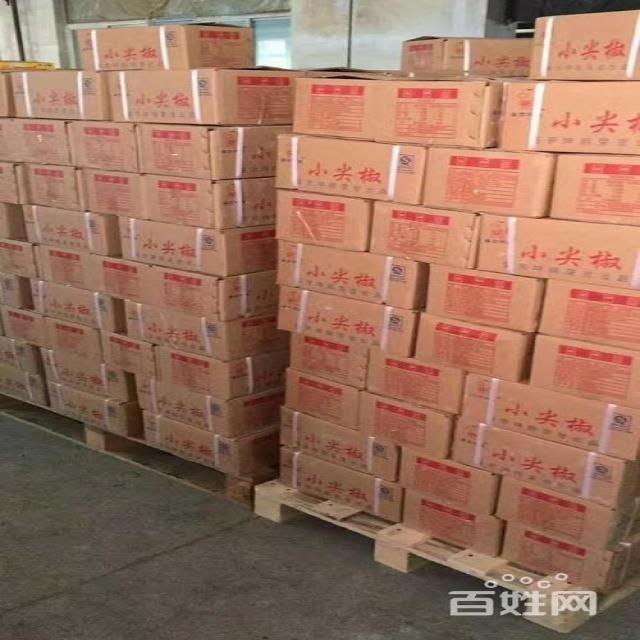box: (451, 415, 639, 510), (458, 371, 640, 461), (475, 213, 640, 292), (91, 253, 280, 320), (106, 66, 307, 126), (275, 132, 428, 206), (493, 475, 639, 551), (276, 283, 419, 358), (276, 240, 429, 310), (122, 299, 289, 362), (498, 81, 640, 155), (500, 521, 639, 593), (421, 145, 556, 218), (133, 374, 283, 439), (375, 75, 504, 150), (280, 445, 403, 523), (140, 410, 282, 477), (118, 217, 276, 277), (136, 122, 293, 181), (280, 406, 398, 484), (527, 332, 640, 410), (413, 312, 536, 383), (77, 22, 256, 70), (425, 263, 547, 333), (366, 199, 479, 270), (529, 10, 640, 81), (141, 173, 276, 230), (154, 344, 291, 400), (399, 488, 506, 559), (536, 279, 640, 351), (292, 75, 402, 142), (397, 445, 499, 517), (357, 389, 457, 459), (549, 153, 640, 227), (365, 349, 465, 415), (274, 189, 371, 253), (44, 379, 142, 437), (401, 36, 534, 78), (38, 346, 137, 401), (10, 68, 110, 120), (22, 204, 122, 256), (29, 278, 125, 332), (283, 367, 361, 431), (289, 331, 369, 389), (67, 120, 138, 173), (82, 166, 147, 221), (22, 161, 90, 212), (96, 328, 159, 380), (33, 244, 95, 292), (13, 118, 72, 166), (44, 315, 101, 364), (0, 304, 50, 348), (0, 364, 49, 408), (0, 237, 38, 281), (0, 336, 44, 374), (0, 161, 31, 204), (0, 271, 32, 309), (0, 116, 22, 162), (306, 67, 401, 77), (0, 203, 27, 238), (0, 73, 17, 118), (0, 61, 51, 72), (627, 498, 639, 536)
